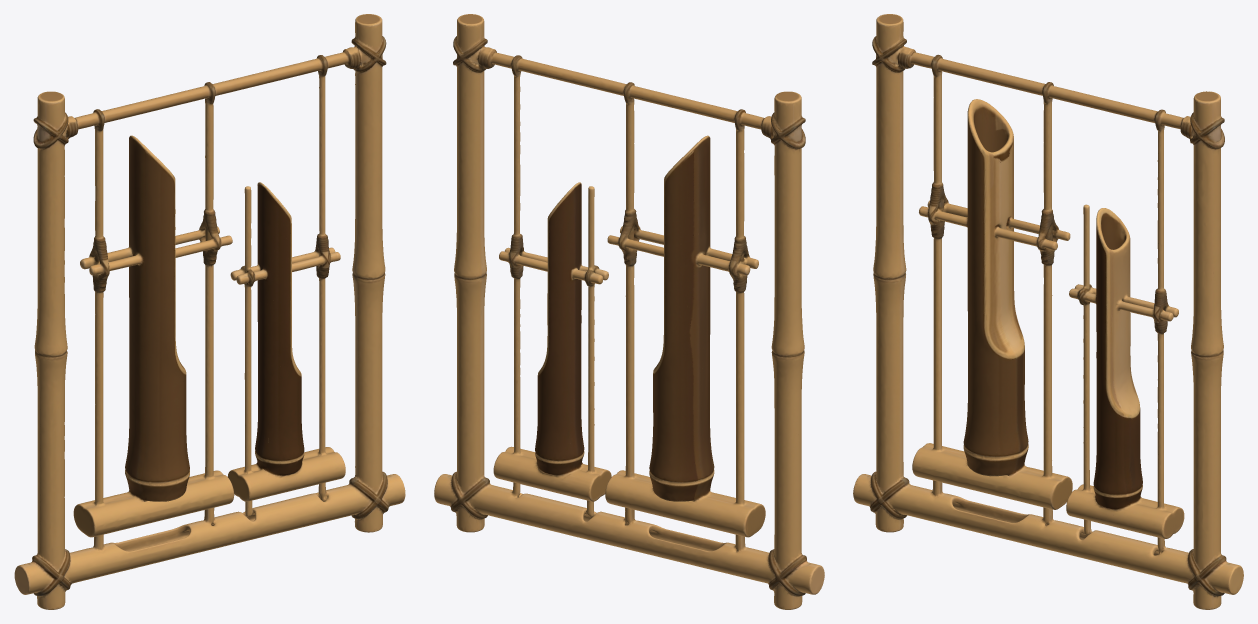
Rendered from Angklung.glb.
The picture shows the model from 3 angles, left to right: view 1: azimuth 30°, elevation 25°; view 2: azimuth 150°, elevation 25°; view 3: azimuth 330°, elevation 25°; orthographic projection.
Bounding box in the file's own units: 1.47 × 1.9 × 0.2257.
1 material, 1 textured.
